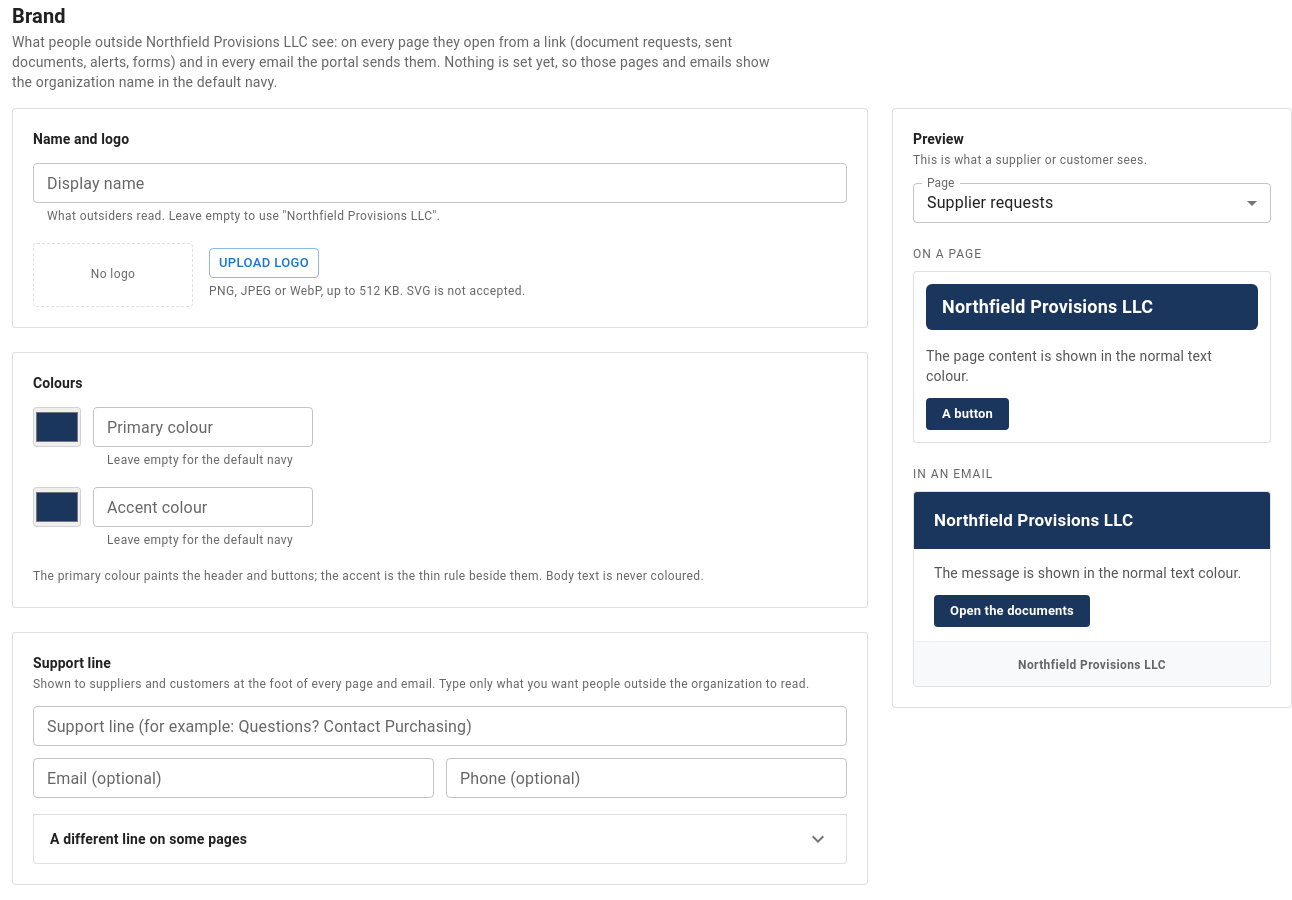
Test: Settings > Brand › the preview follows the draft, and nothing is sent until Save
In the field with test id "brand-display-name": (440, 183) [33,163,847,203], type "Northfield Foods"
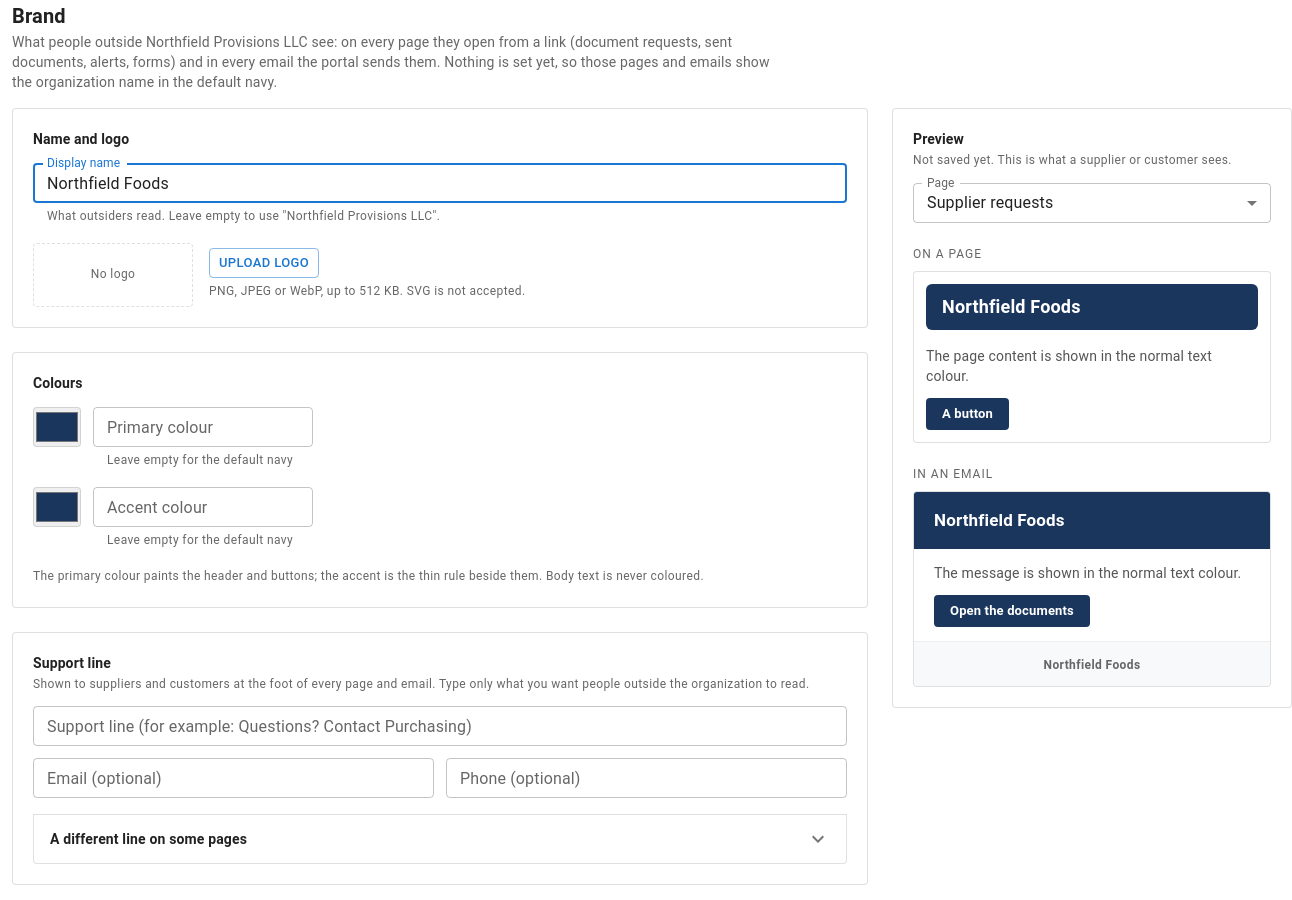
In the field with test id "brand-primary-color": (203, 427) [93,407,313,447], type "#0b6e4f"
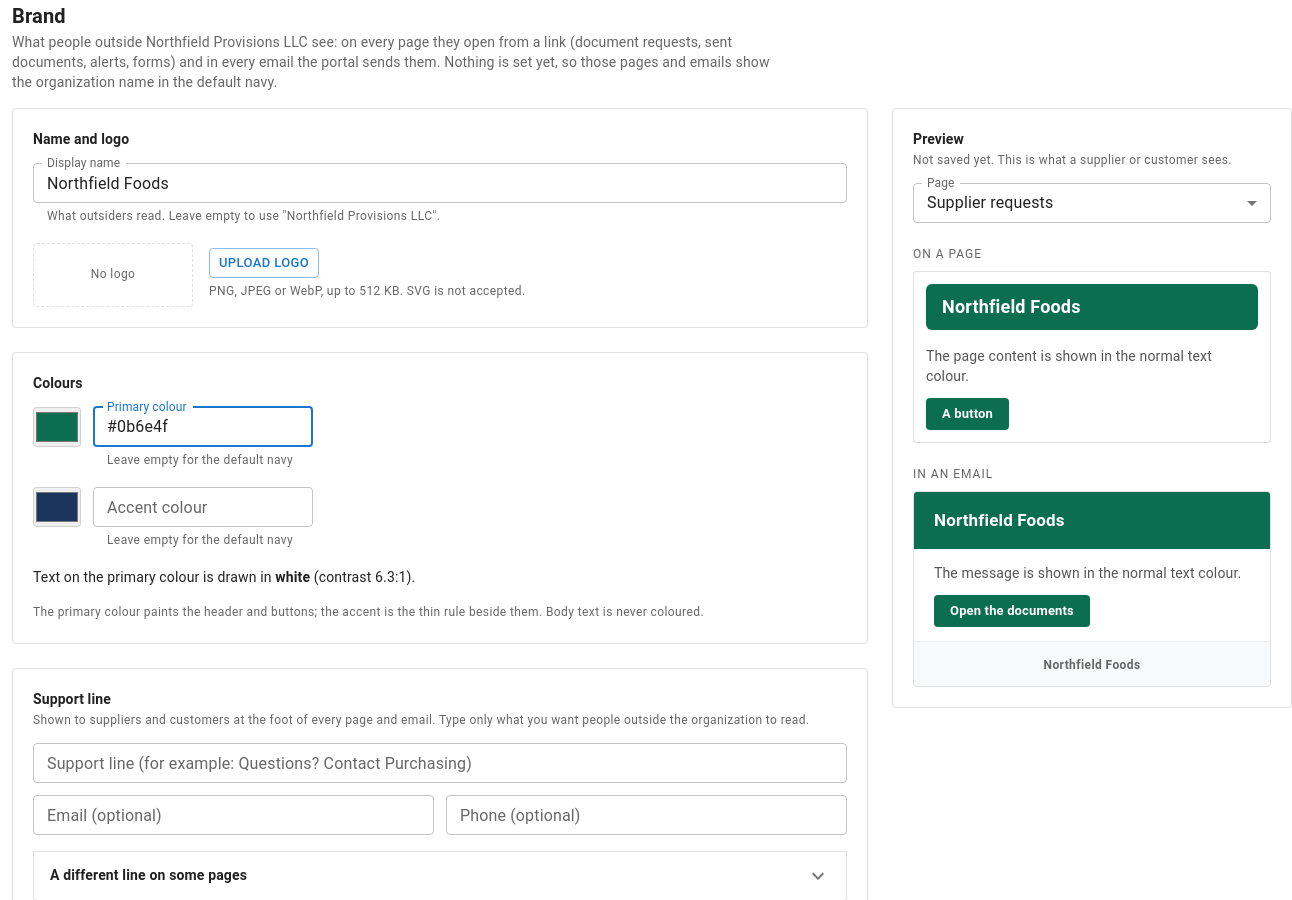
In the field with test id "brand-support-text": (440, 762) [33,742,847,782], type "Questions? Ask Purchasing"
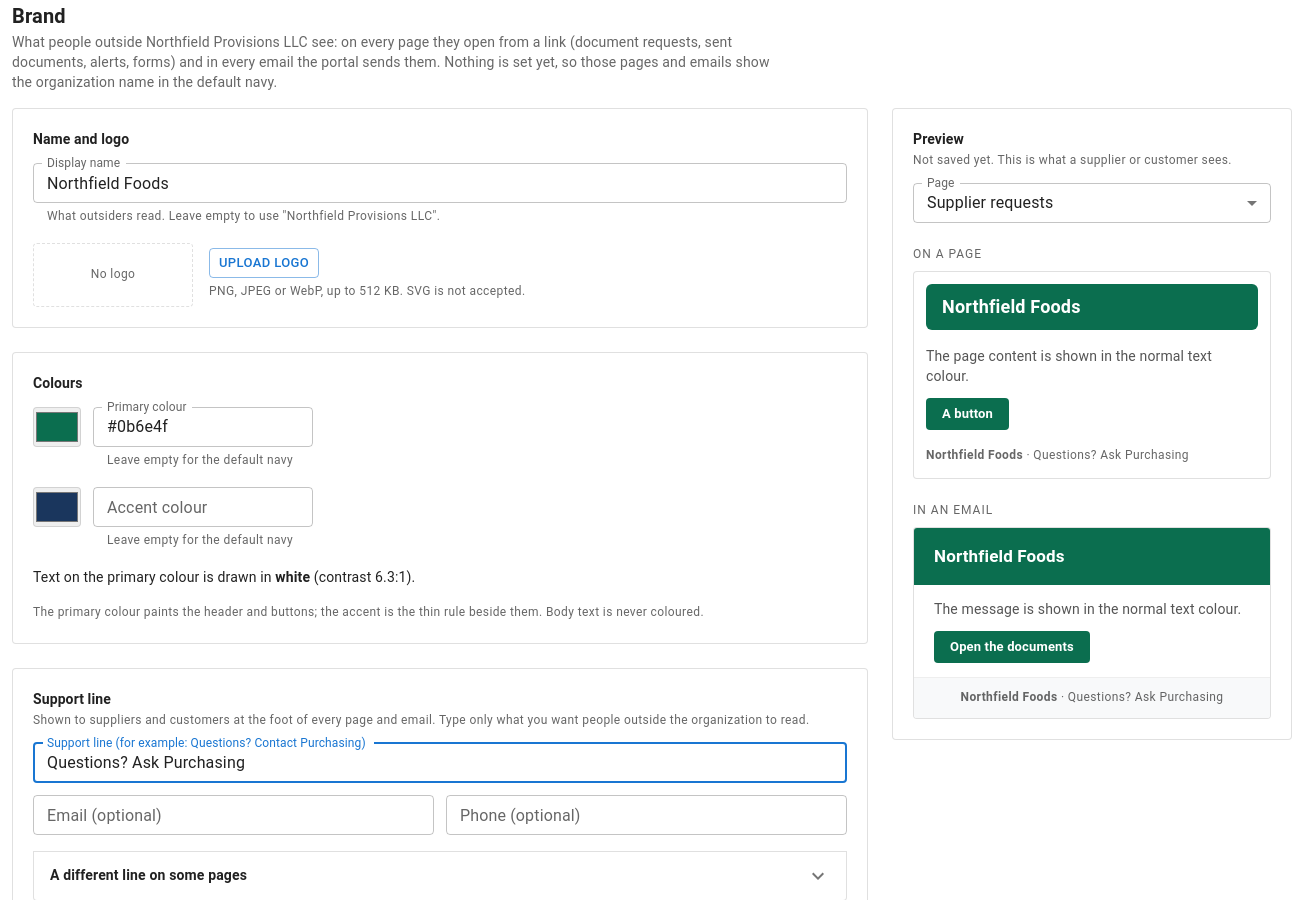
In the field with test id "brand-support-email": (234, 814) [33,794,434,834], type "purchasing@northfield.example"
(page scrolled)
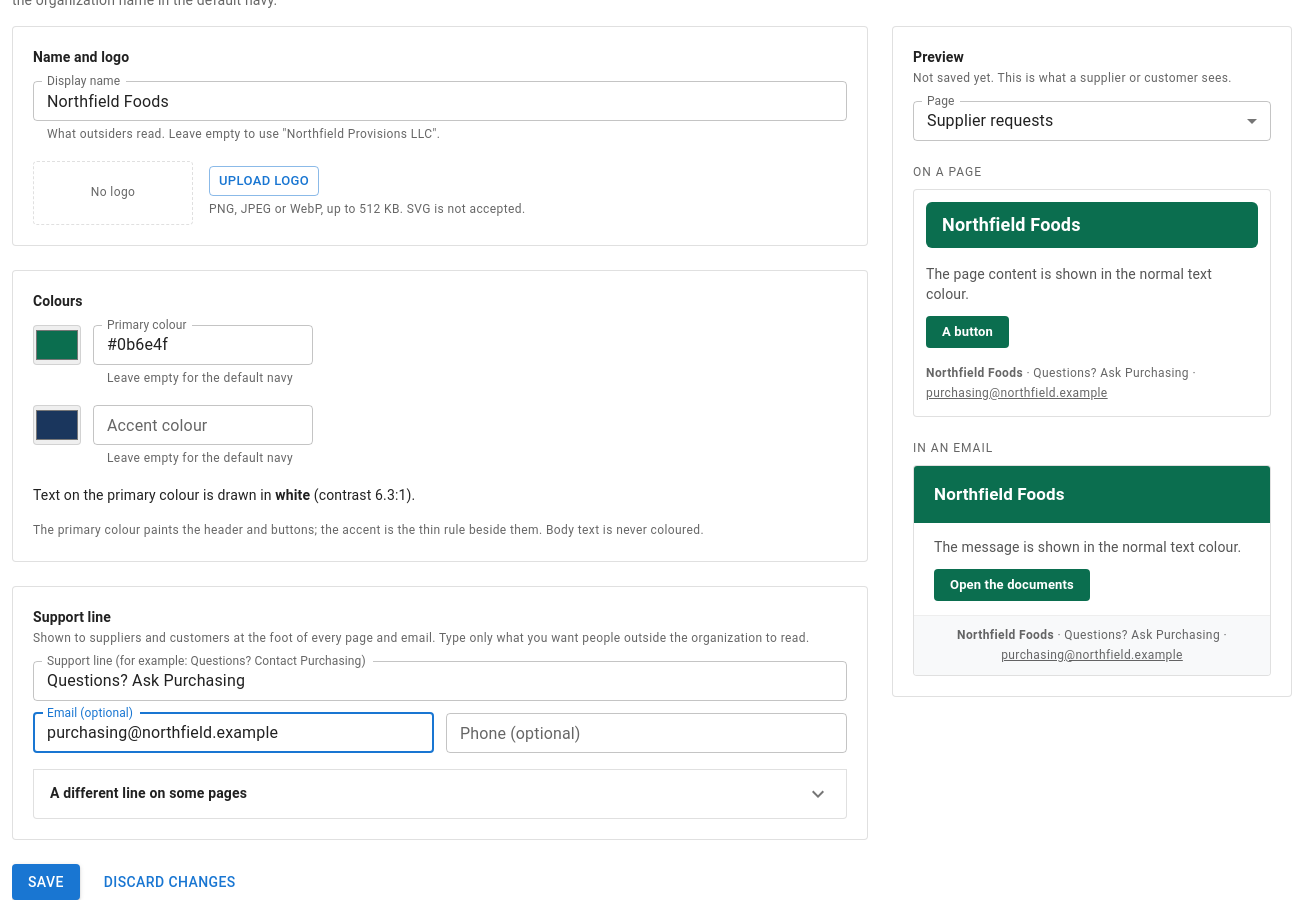
Expected: the text with test id "brand-name" reads "Northfield Foods", [942,214,1081,235]
Expected: the 3rd text "Northfield Foods" is shown, [914,466,1270,523]
Expected: the element with test id "brand-support" reads "Northfield Foods · Questions? Ask Purchasing · purchasing@northfield.example", [926,366,1196,400]
Click the button with test id "brand-save": (46, 882) [12,864,80,899]
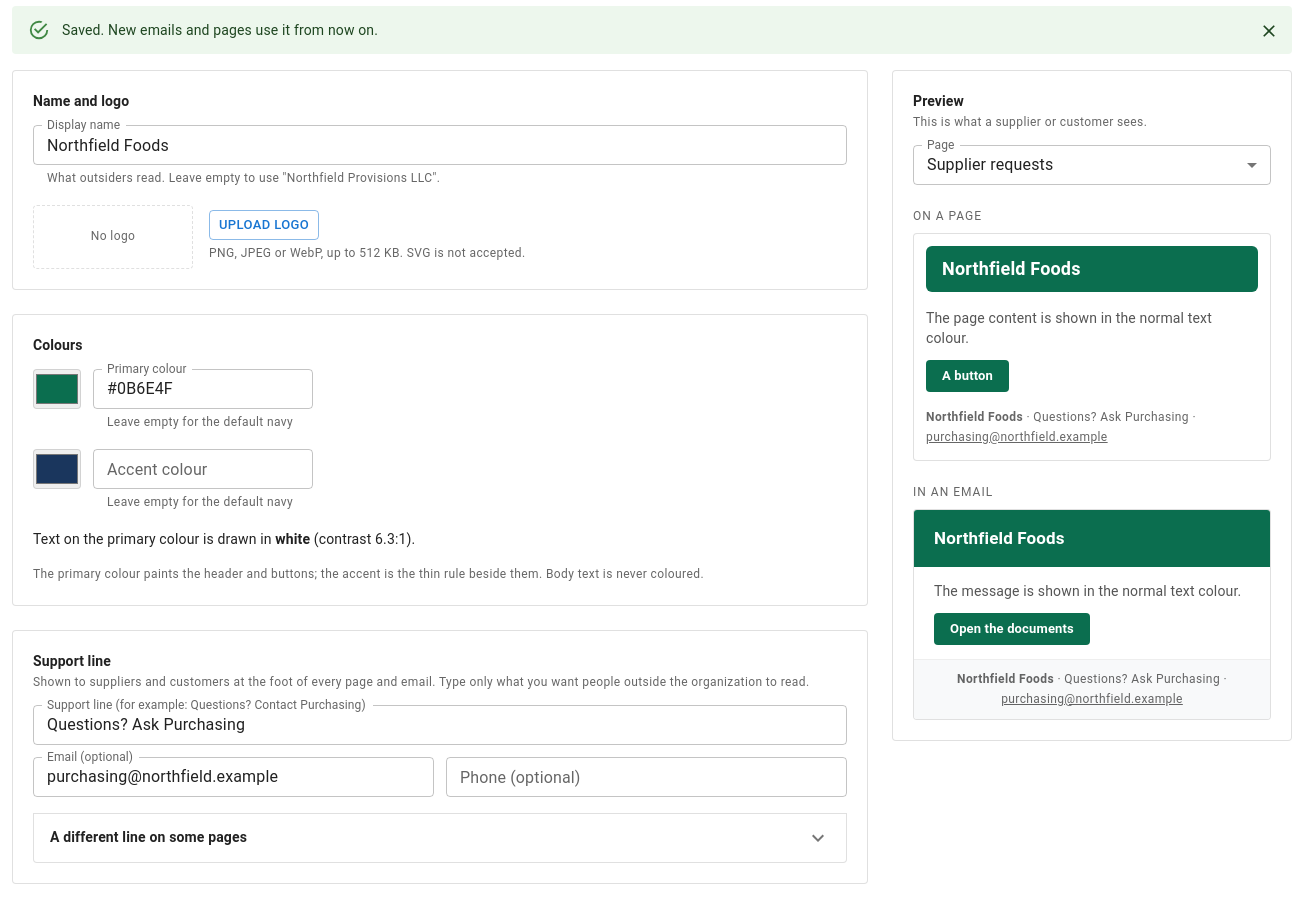
Expected: the text "Saved. New emails and pages use it from now on." is shown, [62,22,378,38]
